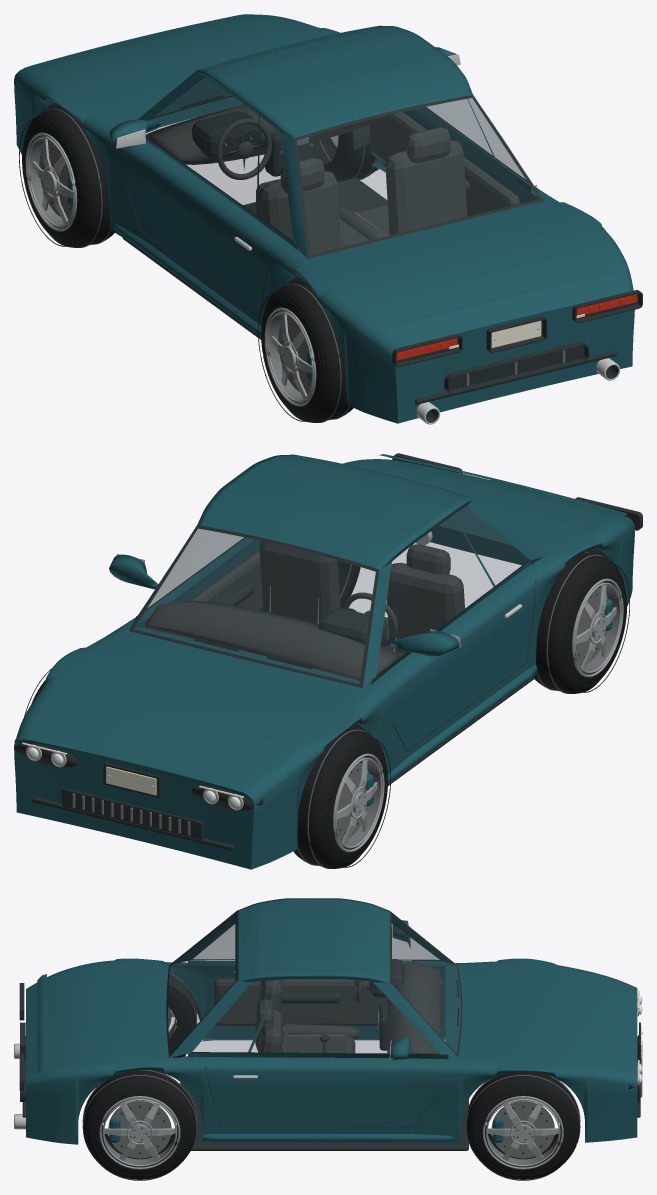
The model's file is coupe.glb.
3 views of the same model, one above another, from view 1: azimuth 30°, elevation 25°; view 2: azimuth 150°, elevation 25°; view 3: azimuth 270°, elevation 25° (orthographic). The views are drawn at different scales.
Visible parts, largest first — view 1: paint, glass, leather, rubber, wheel_left_1, wheel_left_0, wheel_right_1, chrome, tail, ivory; view 2: paint, glass, leather, wheel_left_0, wheel_left_1, rubber, ivory, chrome, brake, wheel_right_0; view 3: paint, glass, leather, wheel_right_0, wheel_right_1, rubber, wheel_left_0, chrome.
Boxes of the visible parts, box(x1,y1,x2,y2) form: paint: box(14, 14, 634, 423); glass: box(146, 78, 543, 258); leather: box(146, 105, 519, 260); rubber: box(14, 81, 642, 422); wheel_left_1: box(19, 106, 114, 247); wheel_left_0: box(258, 280, 353, 422); wheel_right_1: box(314, 131, 378, 181); chrome: box(116, 54, 620, 424); tail: box(396, 294, 636, 360); ivory: box(224, 135, 584, 349); paint: box(14, 454, 634, 869); glass: box(129, 506, 528, 687); leather: box(144, 541, 464, 683); wheel_left_0: box(533, 551, 629, 693); wheel_left_1: box(293, 727, 390, 868); rubber: box(14, 453, 642, 850); ivory: box(22, 742, 243, 797); chrome: box(26, 531, 522, 810); brake: box(72, 793, 190, 835); wheel_right_0: box(338, 560, 360, 608); paint: box(26, 898, 637, 1144); glass: box(166, 911, 462, 1057); leather: box(214, 961, 443, 1053); wheel_right_0: box(82, 1070, 197, 1180); wheel_right_1: box(466, 1071, 580, 1180); rubber: box(19, 959, 640, 1150); wheel_left_0: box(168, 984, 197, 1057); chrome: box(14, 971, 642, 1129).
Size of the model in its own units: 2.31 by 1.51 by 4.53.
